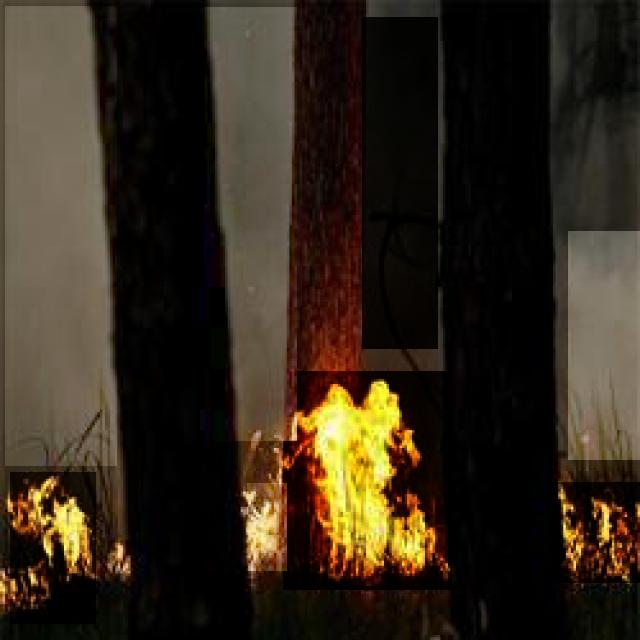Fire: (283, 371, 452, 590), (10, 472, 96, 624), (550, 482, 640, 583), (247, 483, 287, 571)
Smoke: (5, 6, 117, 466), (200, 7, 297, 441), (362, 17, 438, 349), (568, 231, 640, 460)
